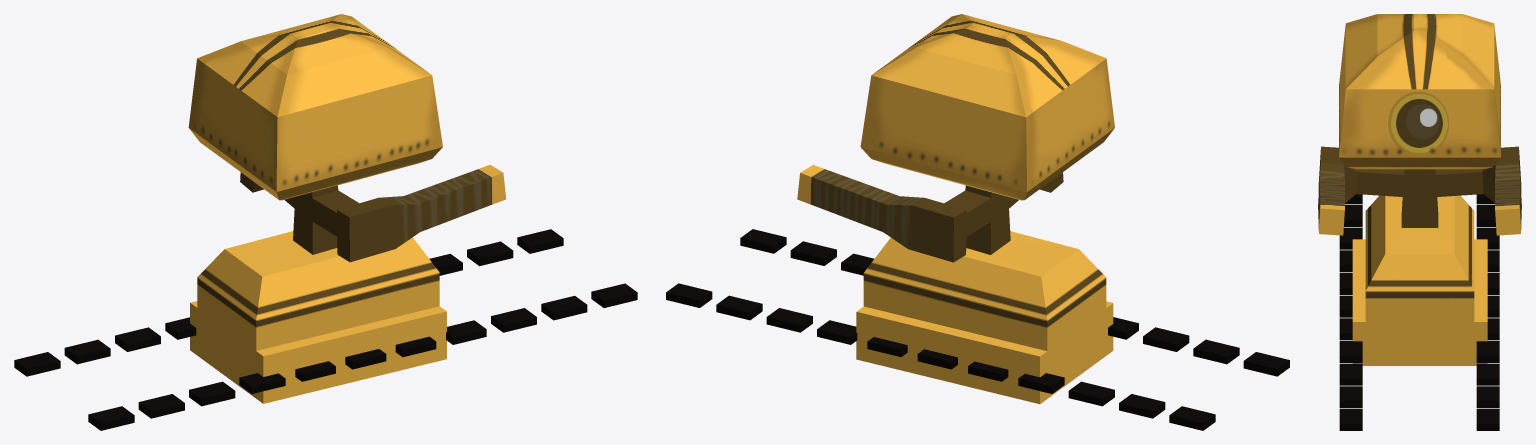
The model's file is 機器人.FBX.
3 views of the same model, side by side, from view 1: azimuth 30°, elevation 25°; view 2: azimuth 150°, elevation 25°; view 3: azimuth 270°, elevation 25° (orthographic). The views are drawn at different scales.
Visible parts, largest first — view 1: Box024, Box011, Box014, Box016, Box002, Box013, Box015, Box021, Box003, Box012, Box010, Box022 (+2 smaller); view 2: Box024, Box010, Box011, Box003, Box014, Box021, Box002, Box004, Box012, Box013, Box015, Box016 (+2 smaller); view 3: Box024, Box003, Box004, Box021, Box022, Box002, Box005, Box016, Box023, Box011, Box013, Box010 (+9 smaller).
Boxes of the visible parts, x1,y1,x2,y2 form: Box024: (188, 14, 506, 403); Box011: (64, 339, 110, 364); Box014: (138, 394, 184, 418); Box016: (591, 283, 637, 307); Box002: (517, 229, 563, 253); Box013: (189, 381, 235, 406); Box015: (88, 406, 134, 430); Box021: (541, 295, 587, 320); Box003: (467, 241, 513, 266); Box012: (14, 352, 60, 376); Box010: (115, 327, 160, 351); Box022: (491, 308, 536, 332); Box024: (797, 14, 1114, 404); Box010: (1068, 381, 1114, 406); Box011: (1119, 394, 1165, 418); Box003: (716, 295, 762, 320); Box014: (1193, 339, 1239, 364); Box021: (790, 241, 836, 265); Box002: (666, 283, 712, 307); Box004: (766, 308, 812, 332); Box012: (1169, 406, 1215, 430); Box013: (1143, 327, 1189, 351); Box015: (1243, 352, 1289, 376); Box016: (740, 229, 786, 253); Box024: (1318, 14, 1521, 365); Box003: (1476, 386, 1499, 408); Box004: (1476, 363, 1499, 385); Box021: (1339, 386, 1362, 408); Box022: (1339, 363, 1362, 385); Box002: (1476, 409, 1499, 430); Box005: (1476, 341, 1499, 362); Box016: (1339, 409, 1362, 430); Box023: (1339, 341, 1362, 362); Box011: (1476, 205, 1495, 226); Box013: (1339, 227, 1362, 249); Box010: (1476, 227, 1499, 249).
Bounding box in the file's own units: 392 × 227 × 140.
Materials: 2 (1 with a texture image).
